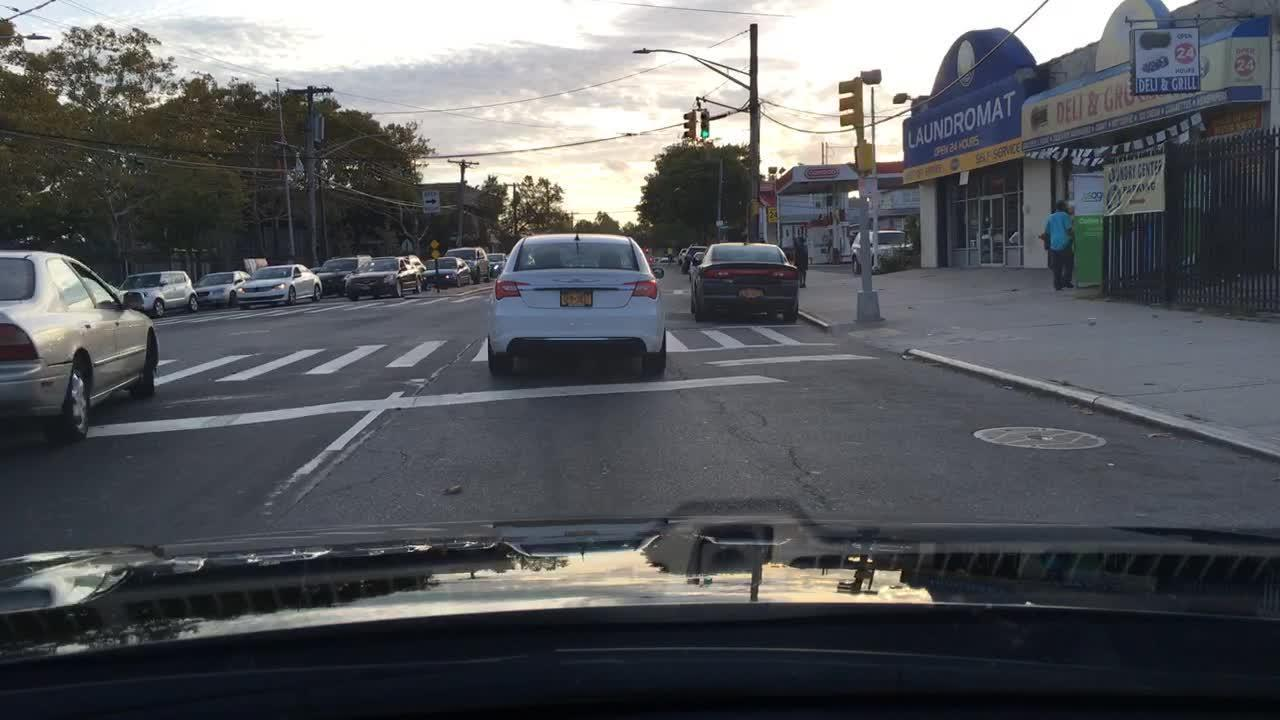Chrysler: (551, 273, 599, 284)
